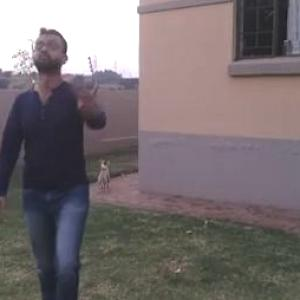takeoff-hand: (71, 78, 105, 122)
